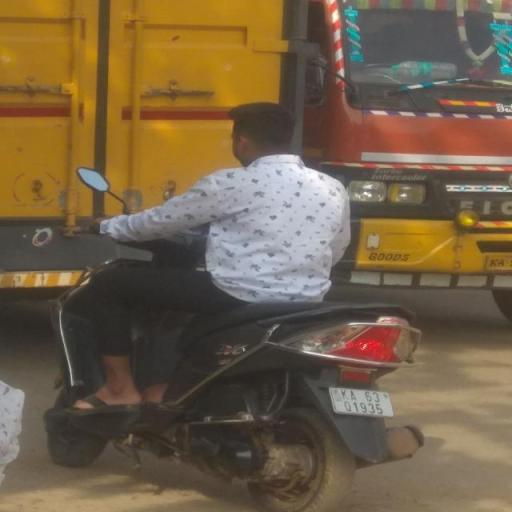bike: (42, 97, 436, 512)
numberplate: (329, 386, 392, 417)
withouthelmet: (232, 103, 290, 158)
